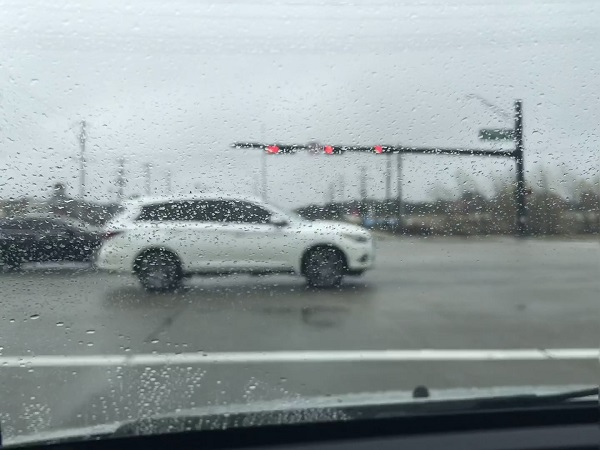car: (95, 194, 377, 291), (2, 212, 108, 270)
traffic light: (263, 141, 279, 153), (368, 146, 386, 156), (318, 144, 334, 153)
